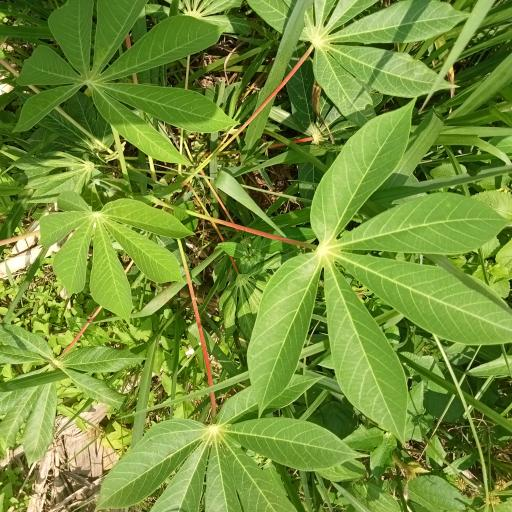Cassava_Healthy: (253, 104, 511, 424), (15, 0, 235, 162), (97, 403, 361, 511), (37, 189, 198, 316)
